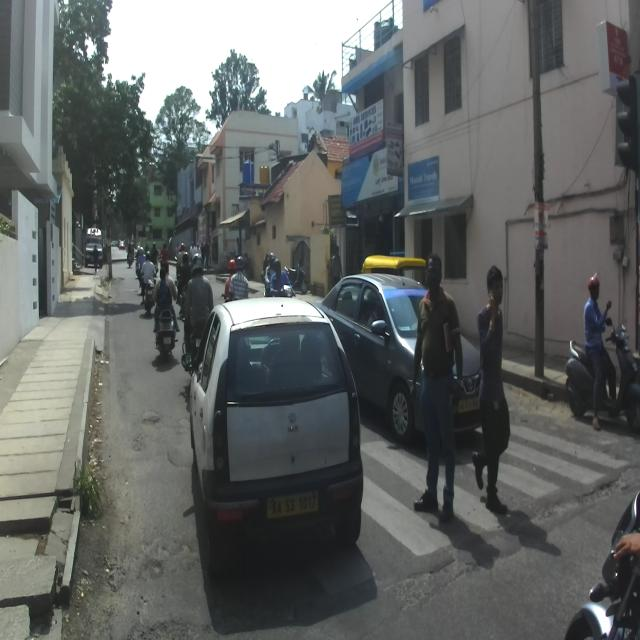car ahead at: (192, 303, 366, 586)
motorcycle ahead at: (568, 313, 640, 431)
person ahead at: (414, 246, 462, 528), (478, 261, 521, 518)
